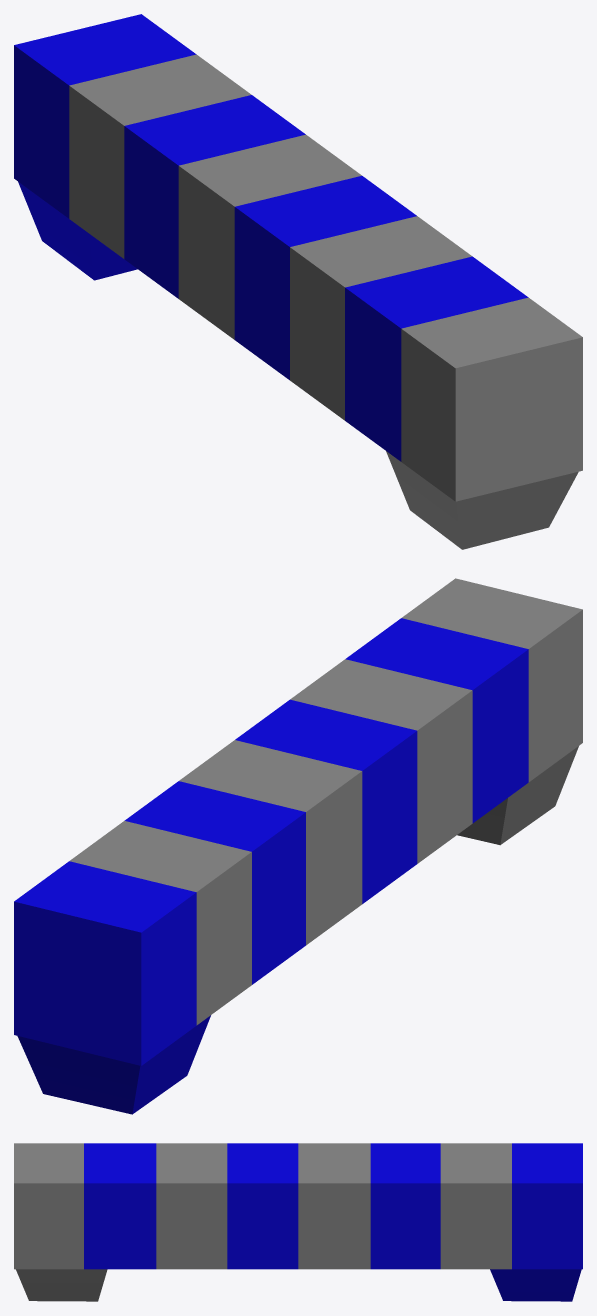
File: Barier1.fbx
The picture shows the model from 3 angles, top to bottom: view 1: azimuth 30°, elevation 25°; view 2: azimuth 150°, elevation 25°; view 3: azimuth 270°, elevation 25°; orthographic projection. The views are drawn at different scales.
Visible parts, largest first — view 1: Cube, Cube2, Cube1; view 2: Cube, Cube1, Cube2; view 3: Cube, Cube1, Cube2.
Boxes of the visible parts, left/top/right/bottom form: Cube: left=14, top=14, right=582, bottom=501; Cube2: left=386, top=451, right=578, bottom=549; Cube1: left=18, top=182, right=137, bottom=280; Cube: left=14, top=578, right=582, bottom=1065; Cube1: left=17, top=1015, right=210, bottom=1114; Cube2: left=457, top=746, right=578, bottom=845; Cube: left=14, top=1143, right=582, bottom=1269; Cube1: left=490, top=1269, right=581, bottom=1301; Cube2: left=16, top=1269, right=107, bottom=1301.
Size of the model in its own units: 100 by 145 by 600.
